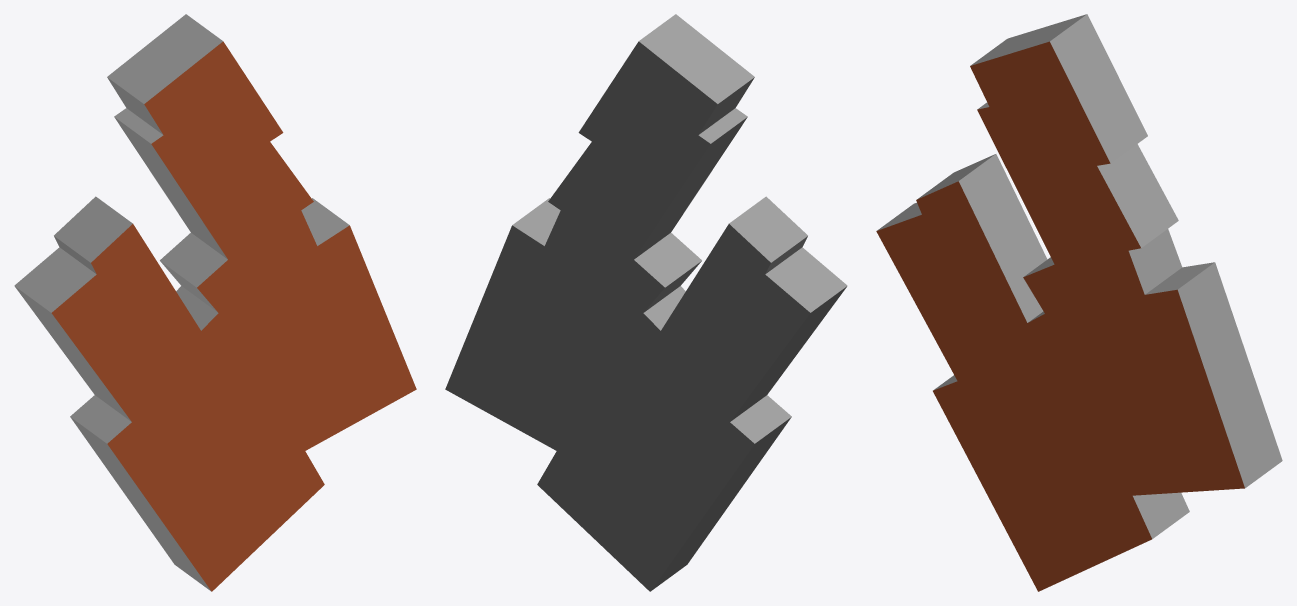
File: construction_2100_assumed_A_Casa_h6m.obj
3 views of the same model, side by side, from view 1: azimuth 30°, elevation 25°; view 2: azimuth 150°, elevation 25°; view 3: azimuth 330°, elevation 25° (orthographic).
Visible parts, largest first — view 1: construction_2100_assumed_A_Casa; view 2: construction_2100_assumed_A_Casa; view 3: construction_2100_assumed_A_Casa.
Boxes of the visible parts, x1,y1,x2,y2 form: construction_2100_assumed_A_Casa: (14, 14, 416, 591); construction_2100_assumed_A_Casa: (445, 14, 847, 591); construction_2100_assumed_A_Casa: (876, 14, 1282, 591).
Bounding box in the file's own units: 34 × 48.72 × 6.
